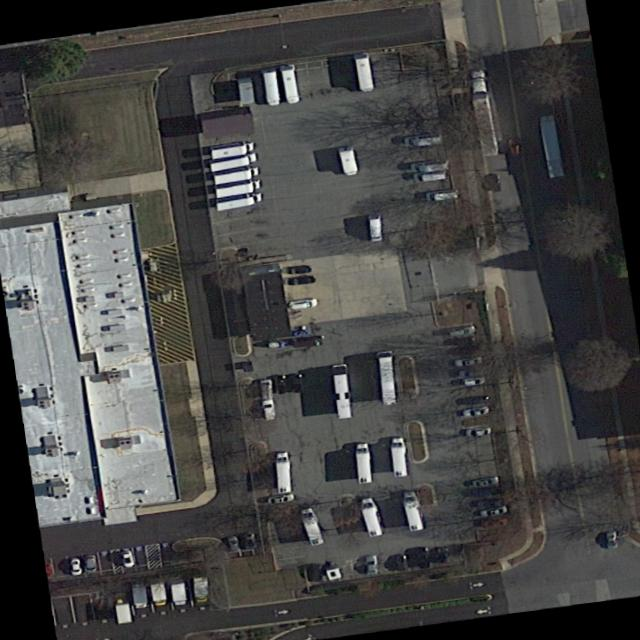large-vehicle: (468, 70, 496, 157), (537, 115, 562, 178), (331, 365, 351, 419), (377, 351, 396, 406), (358, 499, 383, 537), (299, 508, 324, 546), (401, 491, 423, 533), (214, 193, 262, 211), (213, 179, 260, 197), (210, 140, 254, 159), (259, 69, 282, 105), (353, 53, 374, 92), (209, 154, 257, 171), (211, 167, 257, 184), (281, 65, 299, 103), (233, 79, 257, 107), (391, 439, 408, 478), (355, 444, 371, 484), (338, 146, 358, 176), (275, 451, 289, 493), (114, 599, 132, 625), (193, 576, 208, 603), (149, 582, 165, 605), (132, 585, 148, 608), (369, 214, 382, 242), (171, 583, 186, 605)
small-vehicle: (402, 130, 443, 149), (408, 158, 448, 173), (411, 169, 450, 184), (424, 186, 458, 202), (283, 273, 317, 287), (445, 323, 476, 337), (412, 546, 430, 570), (477, 504, 507, 518), (287, 297, 318, 310), (290, 336, 323, 348), (257, 376, 274, 399), (452, 355, 482, 368), (478, 516, 508, 529), (470, 475, 499, 488), (259, 398, 276, 420), (265, 492, 296, 504), (449, 343, 479, 355), (475, 496, 502, 509), (472, 486, 501, 498), (463, 426, 492, 438), (276, 374, 293, 394), (457, 367, 483, 380), (363, 555, 379, 576), (393, 553, 409, 573), (285, 263, 311, 275), (446, 336, 474, 347), (462, 406, 490, 417), (119, 549, 135, 568), (242, 531, 258, 550), (460, 376, 485, 388), (462, 394, 489, 405), (462, 416, 489, 427), (67, 555, 81, 576), (225, 535, 241, 553), (82, 555, 97, 573), (604, 531, 618, 550), (265, 340, 283, 350)
